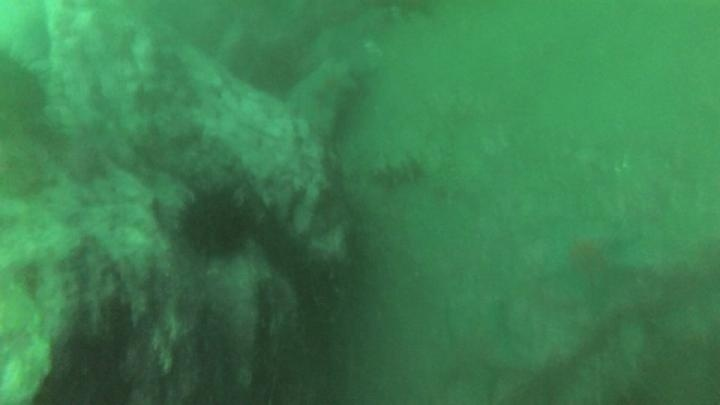echinus: (173, 183, 256, 261), (1, 46, 51, 132)
holothurian: (362, 148, 430, 189)
starfish: (424, 296, 535, 402), (533, 217, 647, 307)
